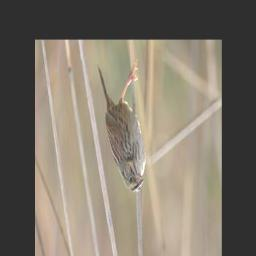Sparrow: (96, 58, 147, 193)
